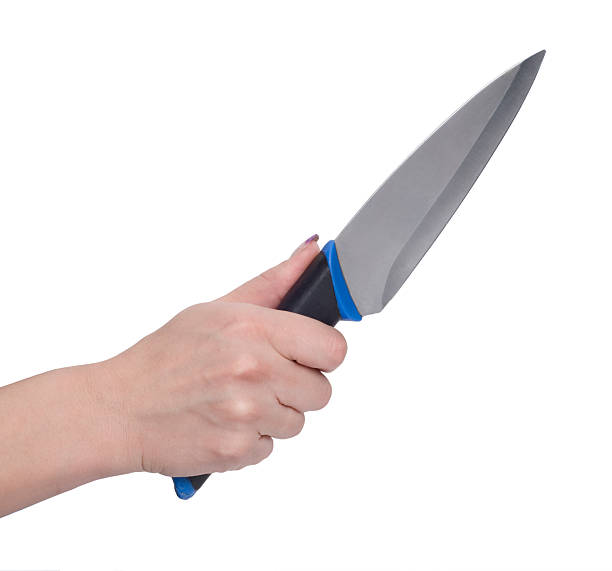knife: (167, 45, 550, 503)
